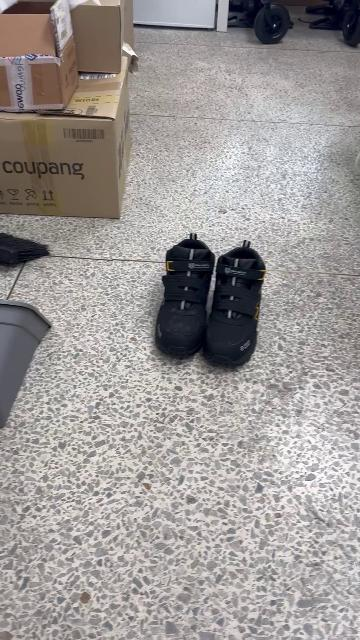shoe_worn: (199, 241, 274, 369), (155, 234, 217, 361)
